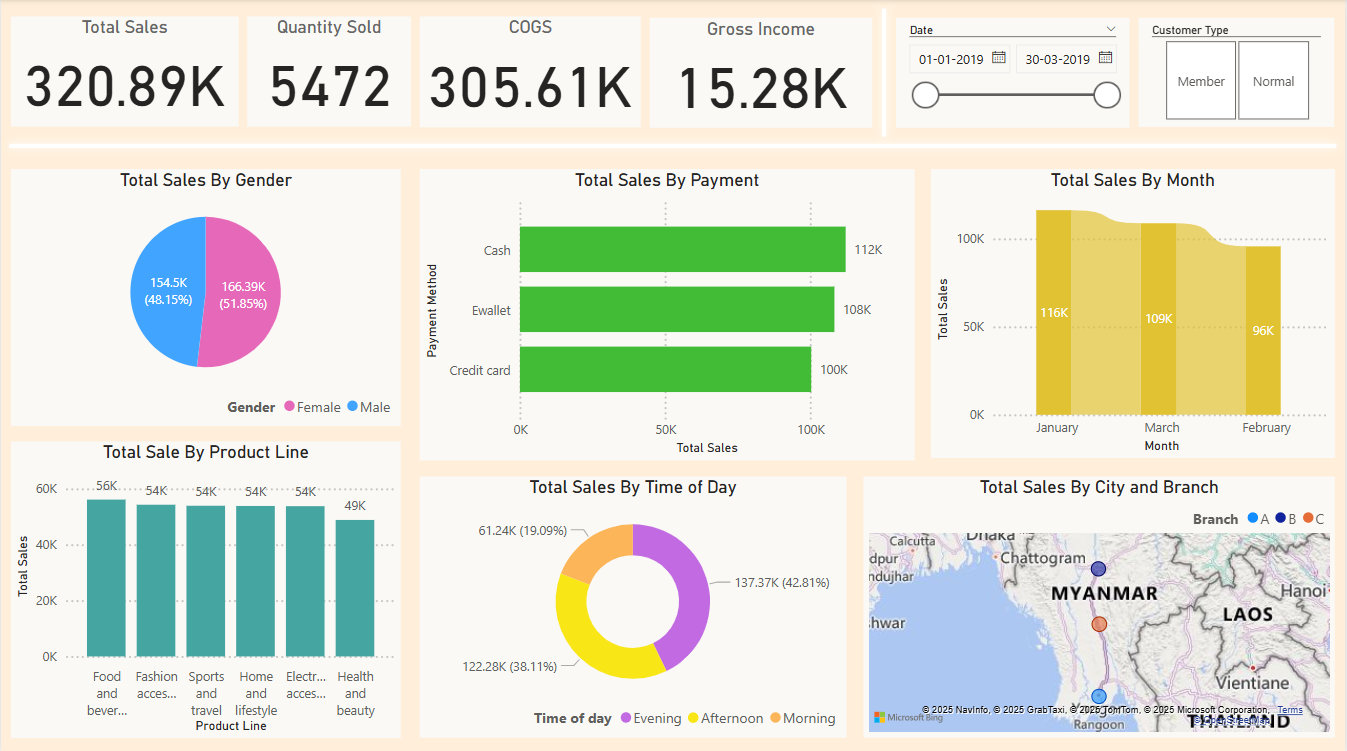

What the dashboard file says about the page in this screenshot:
{"tool":"powerbi","page":{"name":"Page 1","canvas":[1280,720],"ordinal":0},"visuals":[{"type":"pieChart","title":"Total Sales By Gender","fields":{"Category":["WalmartSalesDataUpdated.gender"],"Y":["Sum(WalmartSalesDataUpdated.total)"]},"box":[10,162.5,371.2,245],"z":0},{"type":"columnChart","title":"Total Sale By Product Line","fields":{"Category":["WalmartSalesDataUpdated.product_line"],"Y":["Sum(WalmartSalesDataUpdated.total)"]},"box":[10,421.2,371.2,282.5],"z":1000},{"type":"donutChart","title":"Total Sales By Time of Day","fields":{"Category":["WalmartSalesDataUpdated.time_of_day"],"Y":["Sum(WalmartSalesDataUpdated.total)"]},"box":[398.8,455,406.2,248.8],"z":2000},{"type":"map","title":"Total Sales By City and Branch","fields":{"Category":["WalmartSalesDataUpdated.city"],"Series":["WalmartSalesDataUpdated.branch"],"Size":["Sum(WalmartSalesDataUpdated.total)"]},"box":[821.2,455,448.8,248.8],"z":3000},{"type":"ribbonChart","title":"Total Sales By Month","fields":{"Category":["WalmartSalesDataUpdated.month_name"],"Y":["Sum(WalmartSalesDataUpdated.total)"]},"box":[733.3,84.5,384.5,275],"z":4000},{"type":"barChart","title":"Total Sales By Payment","fields":{"Category":["WalmartSalesDataUpdated.payment"],"Y":["Sum(WalmartSalesDataUpdated.total)"]},"box":[398.8,162.5,471.2,277.5],"z":5000},{"type":"card","title":"Total Sales","fields":{"Values":["Sum(WalmartSalesDataUpdated.total)"]},"box":[9.5,16.7,216.7,104.8],"z":6000},{"type":"card","title":"Quantity Sold","fields":{"Values":["Sum(WalmartSalesDataUpdated.quantity)"]},"box":[234.5,16.7,156,104.8],"z":7000},{"type":"card","title":"Gross Income","fields":{"Values":["Sum(WalmartSalesDataUpdated.gross_income)"]},"box":[617.9,17.9,211.9,104.8],"z":8000},{"type":"card","title":"COGS","fields":{"Values":["Sum(WalmartSalesDataUpdated.cogs)"]},"box":[398.8,16.7,210.7,106],"z":9000},{"type":"slicer","fields":{"Values":["WalmartSalesDataUpdated.date"]},"box":[852.5,17.5,222.5,105],"z":10000},{"type":"slicer","fields":{"Values":["WalmartSalesDataUpdated.customer_type"]},"box":[1083.8,17.5,186.2,103.8],"z":11000},{"type":"shape","box":[0,107.1,1279.8,65.5],"z":12000},{"type":"shape","box":[774,1.2,134.5,138.1],"z":13000}]}

Visuals, with their boxes in screenshot pixels (x1, y1, x2, y2), scaled from the page's 1280x720 canvas onto the 1347x751 screenshot:
"Total Sales By Gender" pieChart: region(11, 169, 401, 425)
"Total Sale By Product Line" columnChart: region(11, 439, 401, 734)
"Total Sales By Time of Day" donutChart: region(420, 475, 847, 734)
"Total Sales By City and Branch" map: region(864, 475, 1336, 734)
"Total Sales By Month" ribbonChart: region(772, 88, 1176, 375)
"Total Sales By Payment" barChart: region(420, 169, 916, 459)
"Total Sales" card: region(10, 17, 238, 127)
"Quantity Sold" card: region(247, 17, 411, 127)
"Gross Income" card: region(650, 19, 873, 128)
"COGS" card: region(420, 17, 641, 128)
slicer - WalmartSalesDataUpdated.date: region(897, 18, 1131, 128)
slicer - WalmartSalesDataUpdated.customer_type: region(1141, 18, 1336, 127)
shape: region(0, 112, 1346, 180)
shape: region(815, 1, 956, 145)
